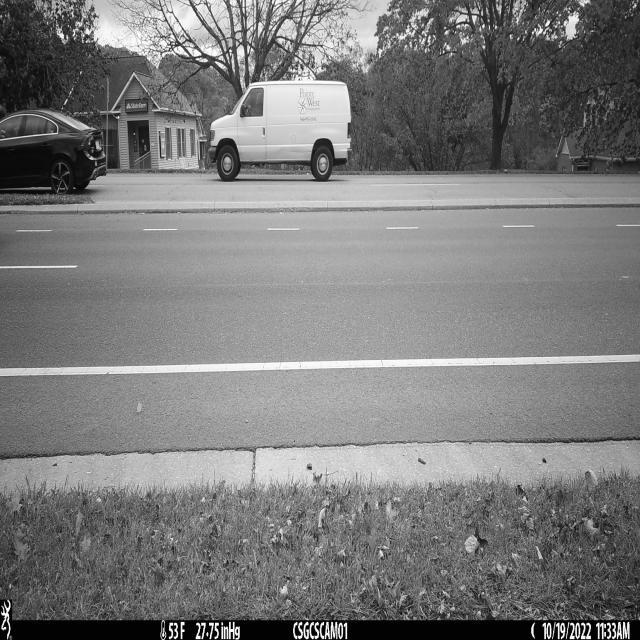Van: (209, 80, 351, 183)
